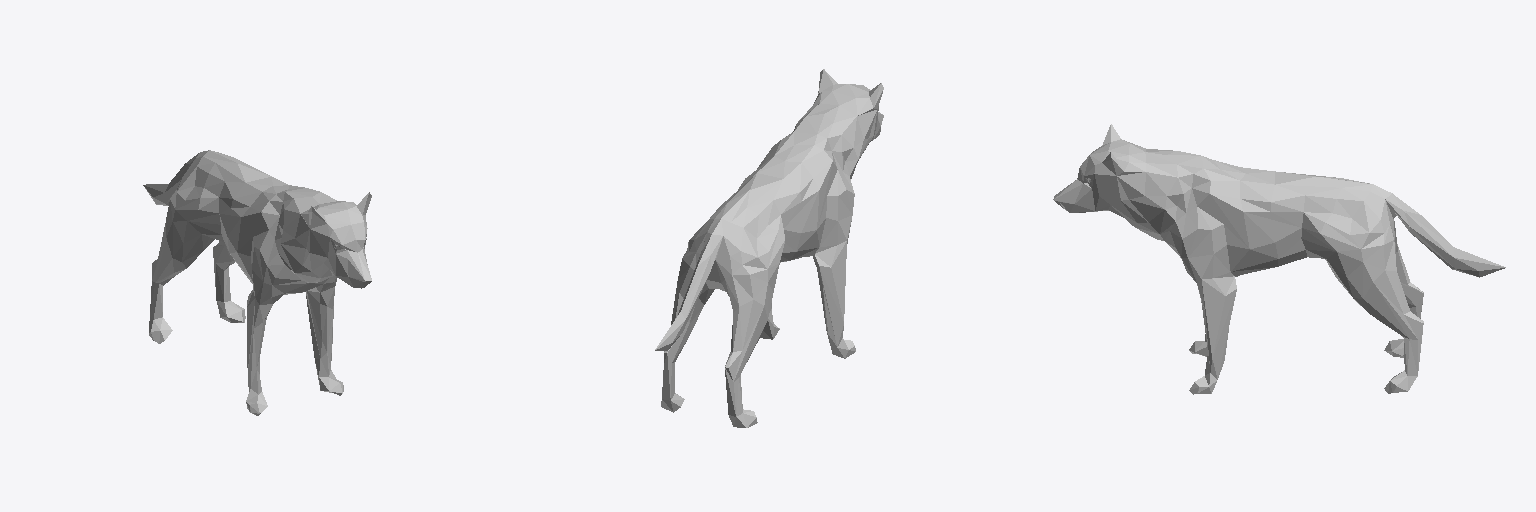
Rendered from Wolf.obj.
The picture shows the model from 3 angles: view 1: azimuth 30°, elevation 25°; view 2: azimuth 150°, elevation 25°; view 3: azimuth 270°, elevation 25°; orthographic projection.
Parts seen in each view (by area): view 1: Wolf; view 2: Wolf; view 3: Wolf.
Boxes of the visible parts, <box> form: Wolf: <box>143,150,371,415</box>; Wolf: <box>655,69,883,427</box>; Wolf: <box>1053,124,1505,394</box>.
Size of the model in its own units: 7.75 by 18.63 by 32.28.